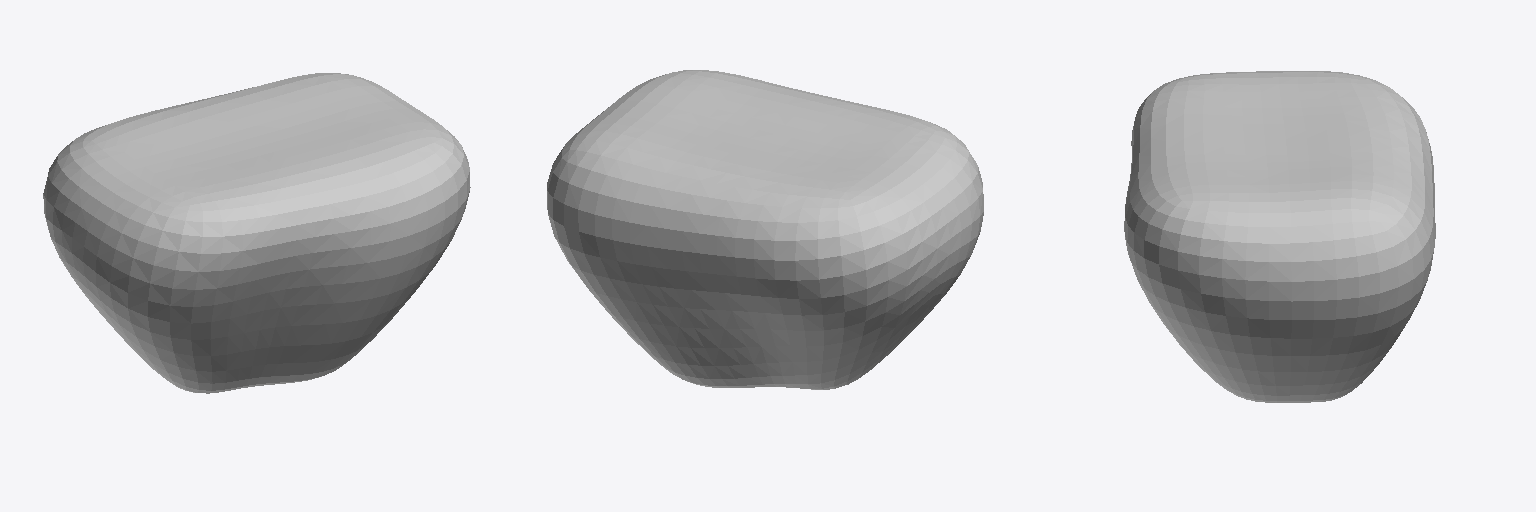
File: Rock-4.obj
3 renders of one model, left to right at view 1: azimuth 30°, elevation 25°; view 2: azimuth 150°, elevation 25°; view 3: azimuth 270°, elevation 25°, orthographic.
Visible parts, largest first — view 1: Group64973; view 2: Group64973; view 3: Group64973.
Boxes of the visible parts, x1,y1,x2,y2 form: Group64973: [43, 73, 470, 393]; Group64973: [547, 70, 983, 389]; Group64973: [1124, 71, 1435, 402].
Size of the model in its own units: 1.36 by 0.8605 by 1.